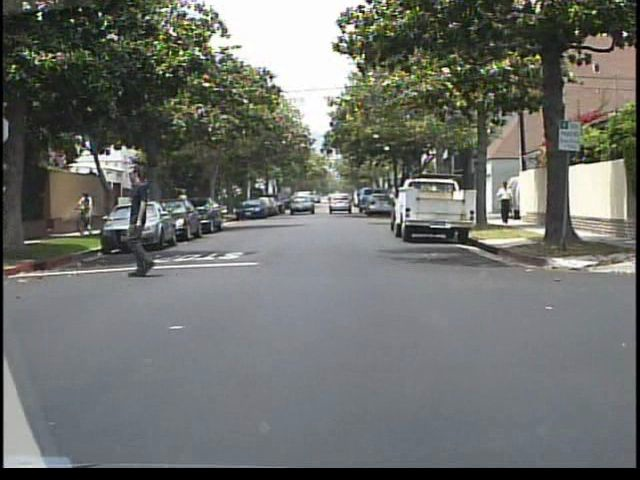person: (120, 164, 179, 279), (493, 175, 520, 231), (73, 187, 97, 234), (174, 184, 193, 224)
